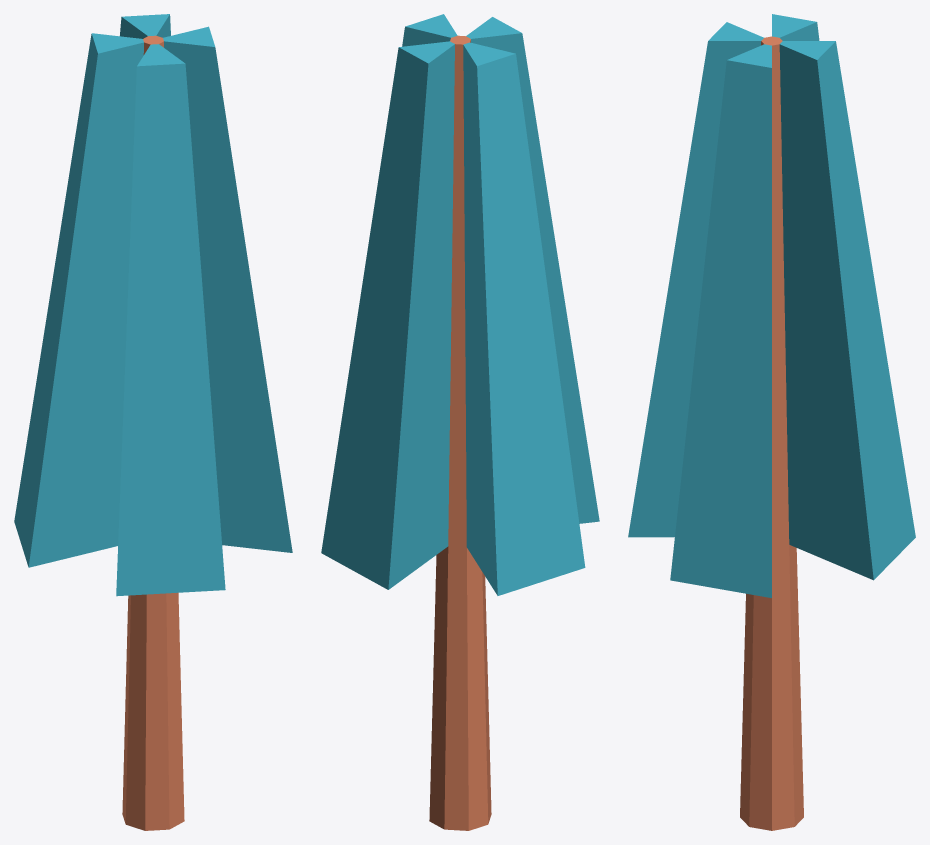
The model's file is Tree_28_summer_blue.fbx.
The picture shows the model from 3 angles, left to right: view 1: azimuth 30°, elevation 25°; view 2: azimuth 150°, elevation 25°; view 3: azimuth 270°, elevation 25°; orthographic projection.
Visible parts, largest first — view 1: Tree_28_summer_blue; view 2: Tree_28_summer_blue; view 3: Tree_28_summer_blue.
Boxes of the visible parts, x1,y1,x2,y2 form: Tree_28_summer_blue: (14, 14, 292, 830); Tree_28_summer_blue: (321, 14, 599, 830); Tree_28_summer_blue: (628, 14, 915, 830).
Bounding box in the file's own units: 98.97 × 294 × 98.97.
